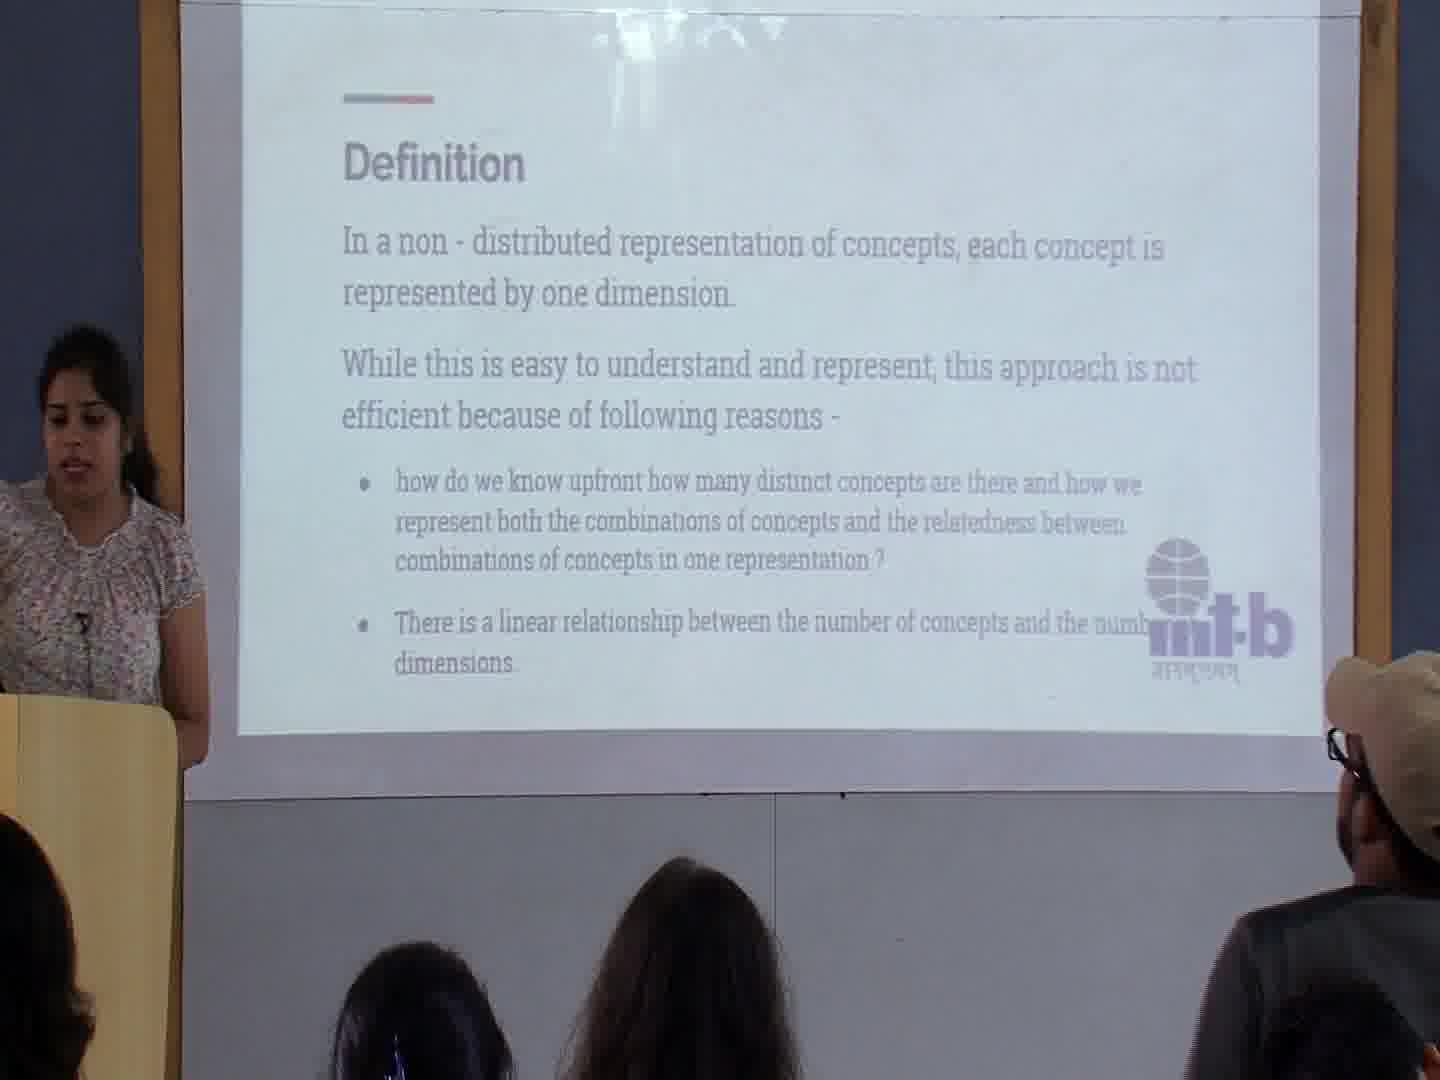slide: (239, 5, 1322, 739)
